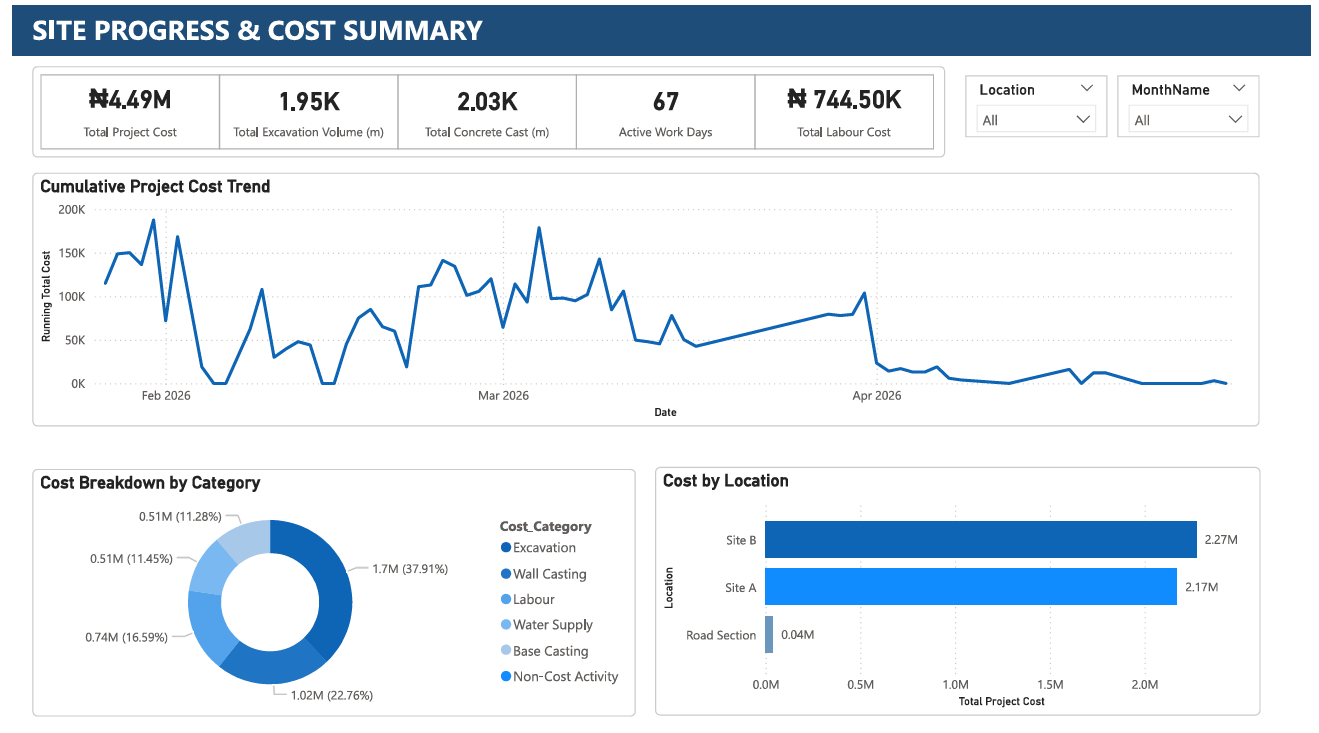

What the dashboard file says about the page in this screenshot:
{"tool":"powerbi","page":{"name":"SITE PROGRESS & COST SUMMARY","canvas":[1280,720],"ordinal":0},"visuals":[{"type":"textbox","box":[0,165,450,30],"z":0},{"type":"shape","box":[0,0,1280,50],"z":1000},{"type":"textbox","box":[0,0,1280,50],"z":2000},{"type":"slicer","fields":{"Values":["Site_Log.Location"]},"box":[939.6,68.9,140.7,61],"z":3000},{"type":"slicer","fields":{"Values":["DateTable.MonthName"]},"box":[1089.7,68.9,140.7,61],"z":4000},{"type":"cardVisual","fields":{"Data":["_Measures.Total Project Cost","_Measures.Total Excavation Volume (m)","_Measures.Total Concrete Cast (m)","_Measures.Active Work Days","_Measures.Total Labour Cost"]},"box":[20,60,900,90],"z":5000},{"type":"lineChart","title":"Cumulative Project Cost Trend","fields":{"Y":["_Measures.Running Total Cost"],"Category":["Site_Log.Date"]},"box":[20,165,1210,250],"z":6000},{"type":"donutChart","title":"Cost Breakdown by Category","fields":{"Category":["Site_Log.Cost_Category"],"Y":["Sum(Site_Log.Total_Cost_NGN)"]},"box":[19.7,457,595.5,243.9],"z":7000},{"type":"clusteredBarChart","title":"Cost by Location","fields":{"Category":["Site_Log.Location"],"Y":["_Measures.Total Project Cost"]},"box":[634.5,455.2,596.6,244.8],"z":8000}]}

Visuals, with their boxes in screenshot pixels (x1, y1, x2, y2), scaled from the page's 1280x720 canvas onto the 1319x733 screenshot:
textbox: box(0, 168, 464, 199)
shape: box(0, 0, 1318, 51)
textbox: box(0, 0, 1318, 51)
slicer - Site_Log.Location: box(968, 70, 1113, 132)
slicer - DateTable.MonthName: box(1123, 70, 1268, 132)
cardVisual - _Measures.Total Project Cost x _Measures.Total Excavation Volume (m): box(21, 61, 948, 153)
"Cumulative Project Cost Trend" lineChart: box(21, 168, 1267, 422)
"Cost Breakdown by Category" donutChart: box(20, 465, 634, 714)
"Cost by Location" clusteredBarChart: box(654, 463, 1269, 713)
